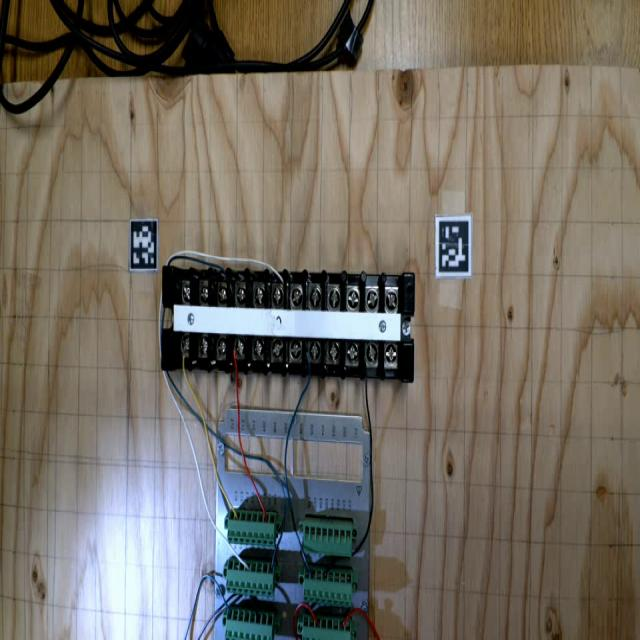Phillips_Block: (157, 261, 419, 382)
Terminal_2: (301, 563, 355, 607), (224, 557, 276, 597), (226, 509, 278, 548), (225, 607, 274, 640), (302, 614, 351, 640)
